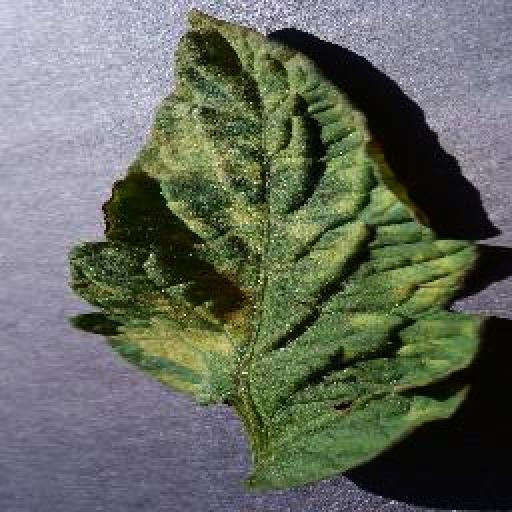disease_tomato: (68, 8, 484, 496)
